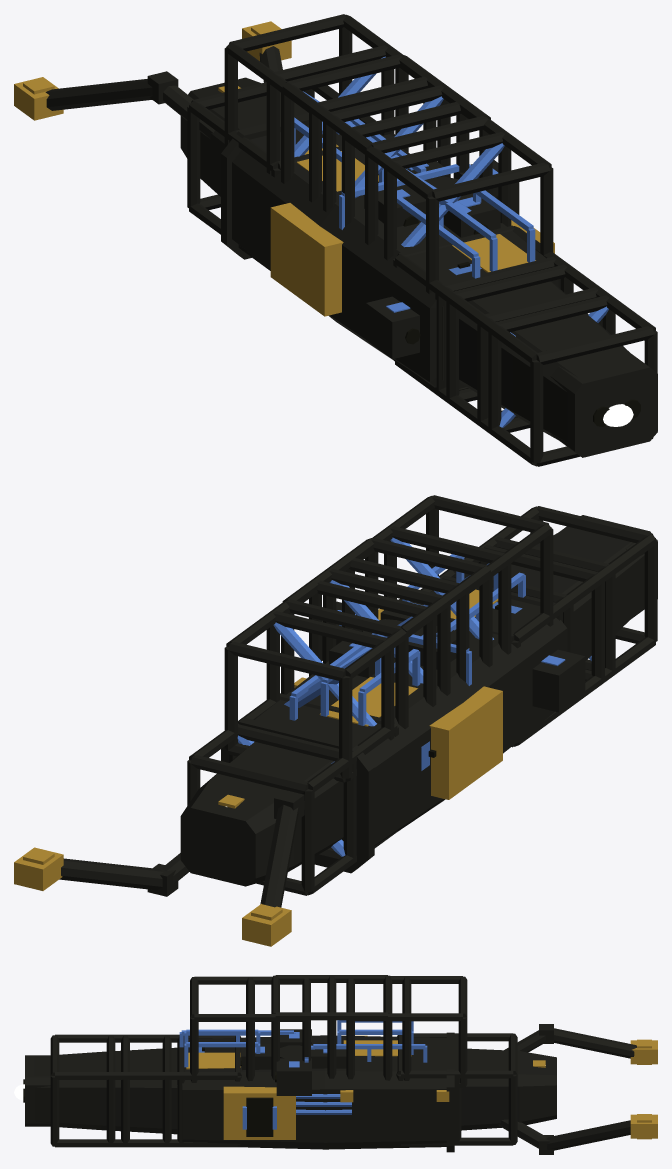
The picture shows the model from 3 angles, top to bottom: view 1: azimuth 30°, elevation 25°; view 2: azimuth 150°, elevation 25°; view 3: azimuth 270°, elevation 25°; orthographic projection. The views are drawn at different scales.
Parts seen in each view (by area): view 1: RIMWARD_HULL; view 2: RIMWARD_HULL; view 3: RIMWARD_HULL.
Boxes of the visible parts, <box> form: RIMWARD_HULL: <box>14,14,657,466</box>; RIMWARD_HULL: <box>14,495,657,946</box>; RIMWARD_HULL: <box>23,975,657,1154</box>.
Bounding box in the file's own units: 2.47 × 1.93 × 8.03.
